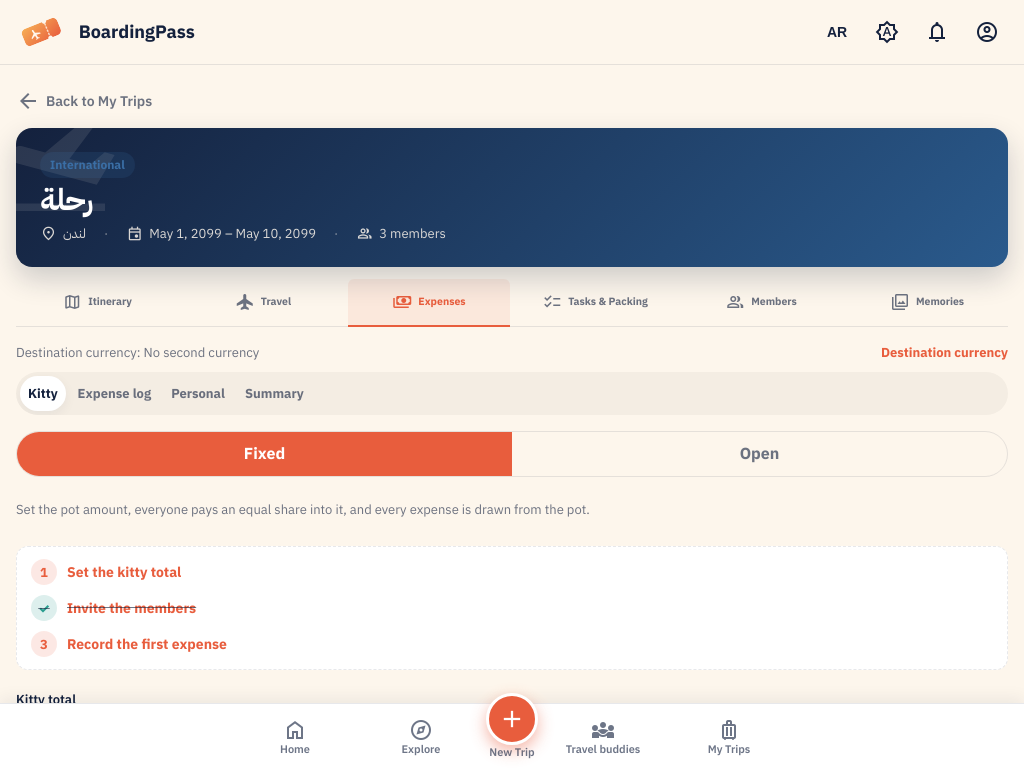
Scenario: US-007 Expenses UI › refuses to add an expense without a category (no silent "Food")
The width and height of the screenshot is (1024, 768).
Expected: the tab "Kitty" is shown, [20, 376, 66, 411]
Click the tab "Expense log": click(114, 394) [70, 376, 159, 411]
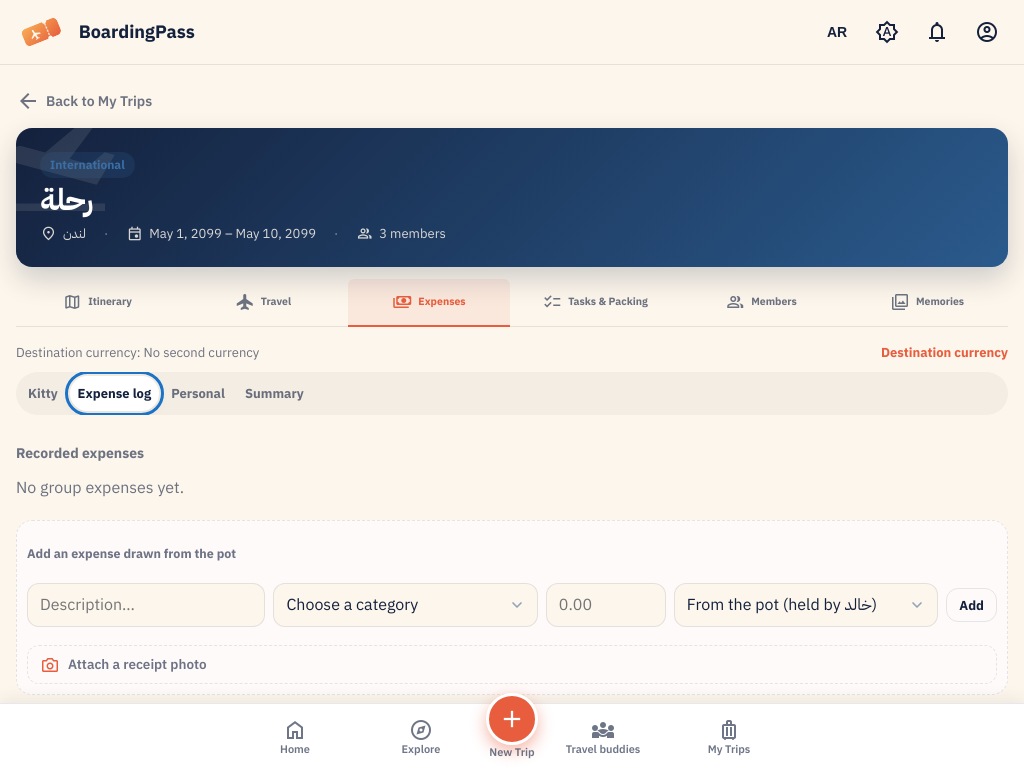
In the field labelled "Description": (146, 605) [27, 583, 265, 627], type "Paris hotel"
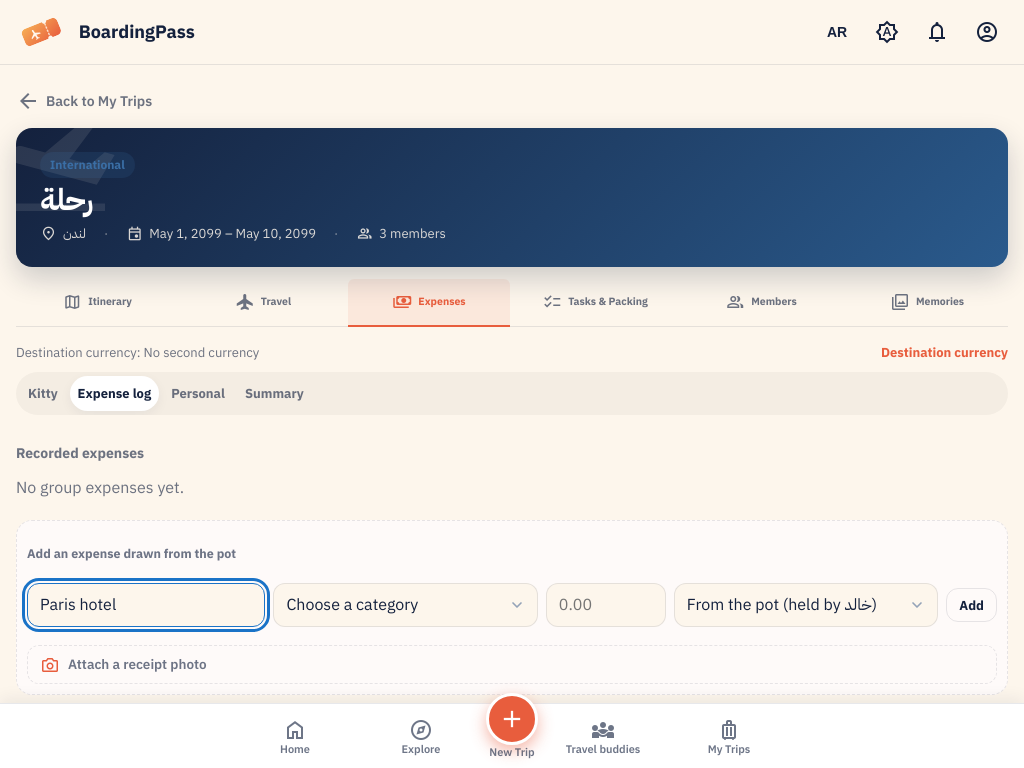
In the number field named "Amount": (606, 605) [546, 583, 666, 627], type "500"
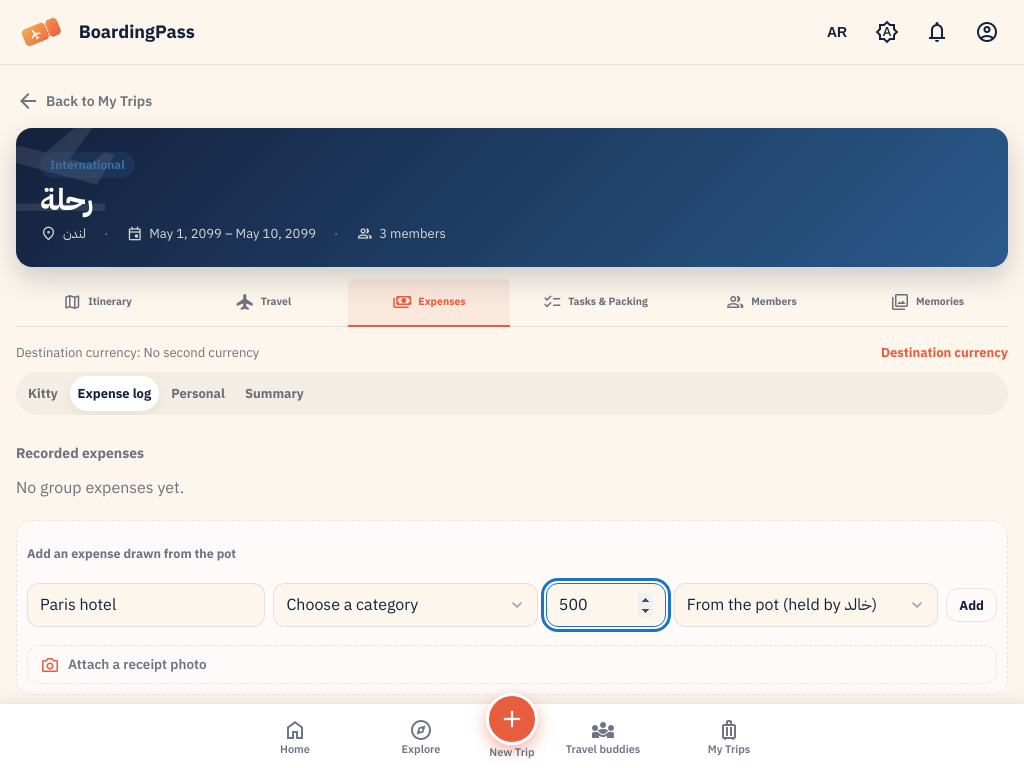
Click the button "Add": click(972, 605) [946, 588, 997, 622]
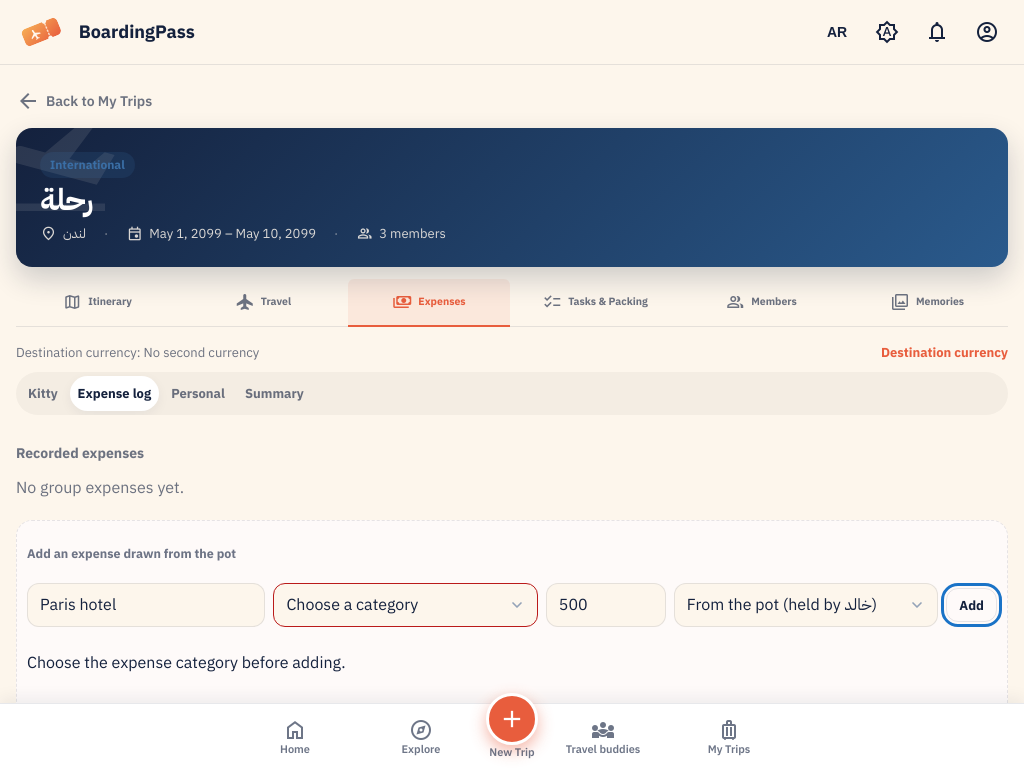
Expected: the message shows "category", [27, 651, 346, 675]
